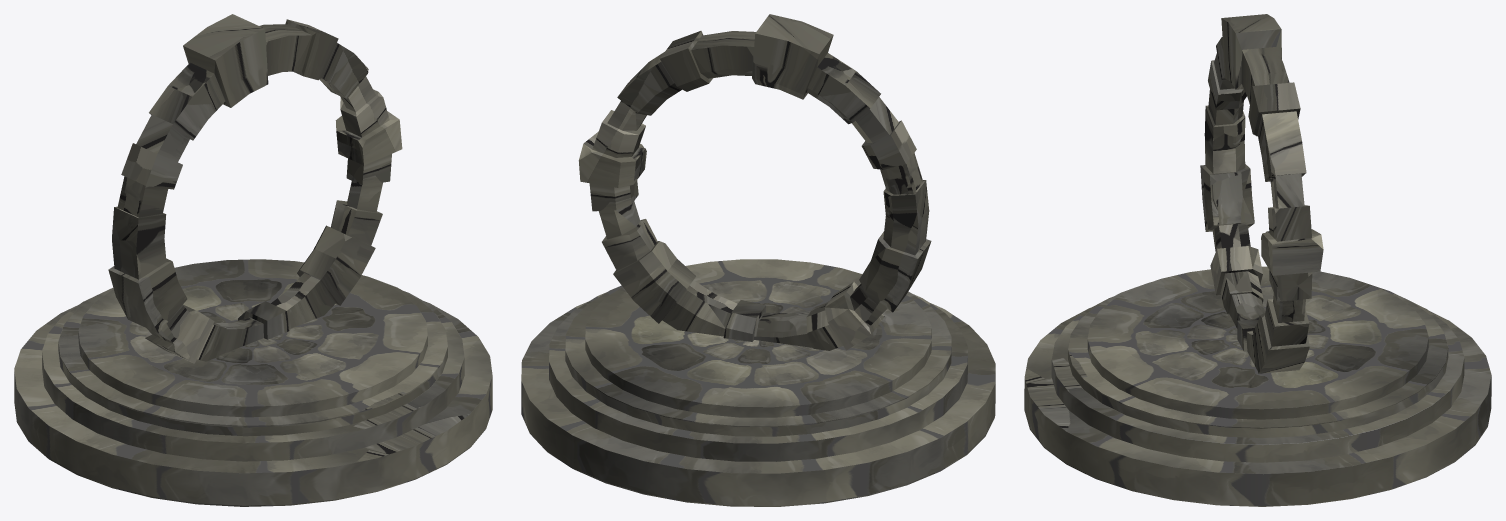
File: Portal.fbx
The picture shows the model from 3 angles, left to right: view 1: azimuth 30°, elevation 25°; view 2: azimuth 150°, elevation 25°; view 3: azimuth 270°, elevation 25°; orthographic projection. The views are drawn at different scales.
Visible parts, largest first — view 1: Portal; view 2: Portal; view 3: Portal.
Part boxes in pixels (left/top/right/bottom): Portal: left=14, top=14, right=492, bottom=506; Portal: left=521, top=14, right=995, bottom=506; Portal: left=1024, top=14, right=1491, bottom=506.
Size of the model in its own units: 1971 by 1756 by 1971.
